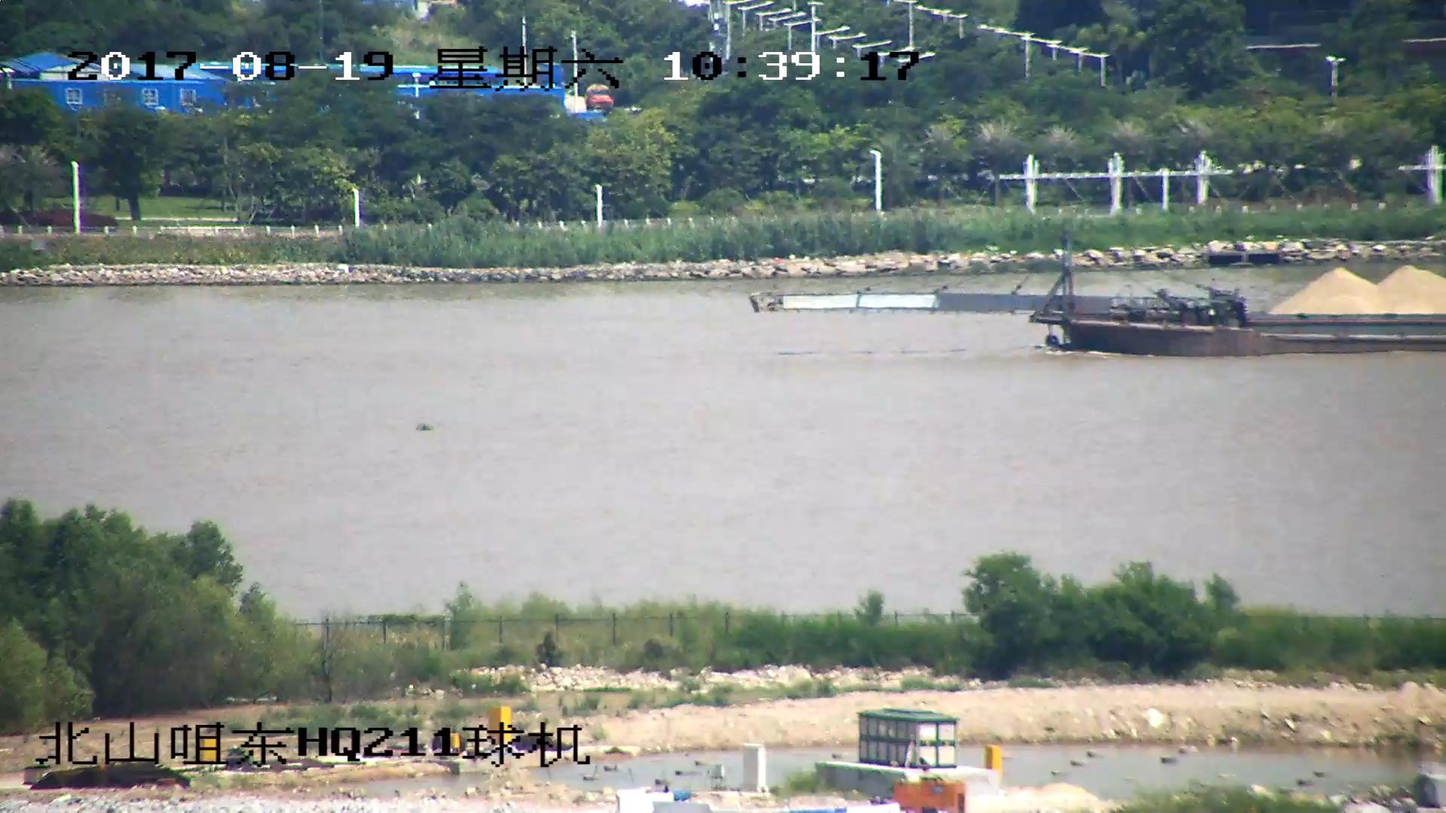ore carrier: (746, 224, 1445, 356)
